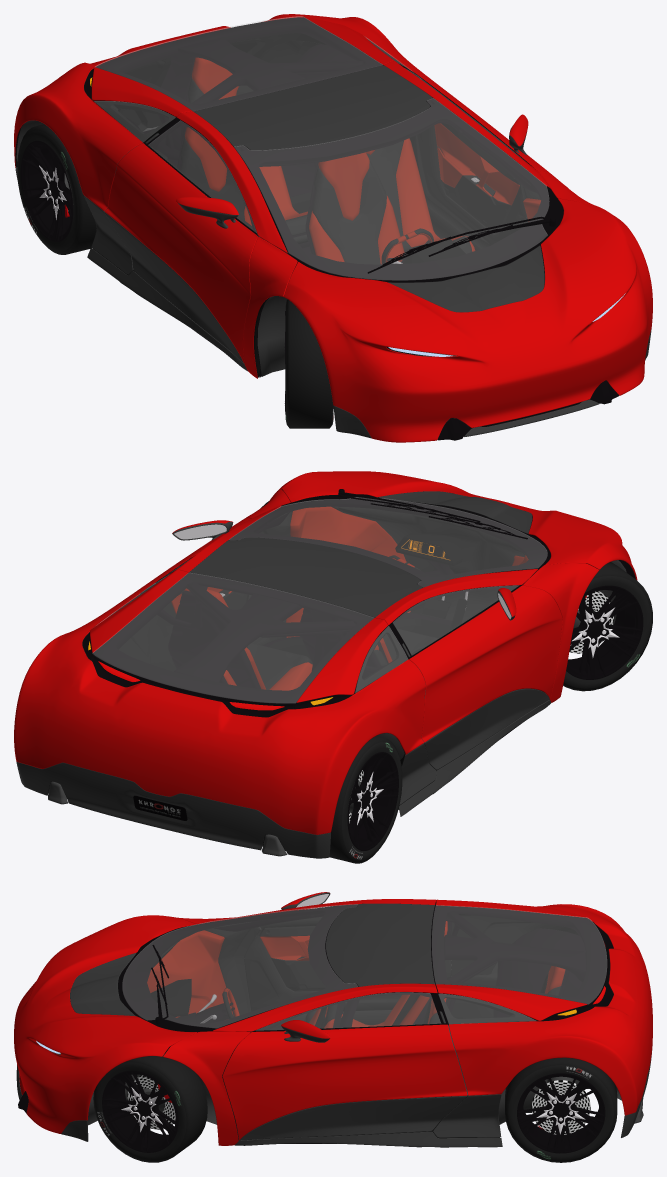
Rendered from electric.glb.
3 views of the same model, one above another, from view 1: azimuth 30°, elevation 25°; view 2: azimuth 150°, elevation 25°; view 3: azimuth 270°, elevation 25° (orthographic). The views are drawn at different scales.
Parts seen in each view (by area): view 1: BodyHood, BodyWindshield, BodyRearwindow, BodyDoorRColor1, BodyRearPanelsColor1, BodyRoofPanel, BodyWindshieldGasket, InteriorSeatsColor1, InteriorSeatsColor2, BodyPillars, InteriorPillar, InteriorRearHatch (+21 smaller); view 2: BodyRearPanelsColor1, BodyRearwindow, BodyWindshield, BodyDoorRColor1, BodyPanelsColor2, BodyRoofPanel, BodyHood, InteriorRearHatch, BodyPillars, InteriorPillar, BodyWindshieldGasket, InteriorDashMid (+22 smaller); view 3: BodyRearPanelsColor1, BodyWindshield, BodyDoorLColor1, BodyHood, BodyRearwindow, BodyRoofPanel, BodyPillars, BodyWindshieldGasket, BodyDoorLColor2, BodyPanelsColor2, WheelFrontL, InteriorRearHatch (+25 smaller).
Boxes of the visible parts, box(x1,y1,x2,y2) form: BodyHood: box(283, 198, 652, 442); BodyWindshield: box(234, 98, 549, 280); BodyRearwindow: box(95, 16, 382, 110); BodyDoorRColor1: box(104, 143, 257, 362); BodyRearPanelsColor1: box(14, 14, 428, 210); BodyRoofPanel: box(193, 65, 432, 150); BodyWindshieldGasket: box(234, 99, 563, 282); InteriorSeatsColor1: box(185, 57, 475, 264); InteriorSeatsColor2: box(180, 78, 472, 264); BodyPillars: box(176, 61, 598, 378); InteriorPillar: box(158, 37, 434, 168); InteriorRearHatch: box(93, 17, 383, 117); BodyRearPanelsColor1: box(14, 569, 425, 834); BodyRearwindow: box(92, 573, 373, 703); BodyWindshield: box(229, 497, 547, 587); BodyDoorRColor1: box(409, 585, 562, 742); BodyPanelsColor2: box(16, 700, 550, 858); BodyRoofPanel: box(189, 537, 422, 617); BodyHood: box(279, 471, 637, 580); InteriorRearHatch: box(93, 573, 386, 707); BodyPillars: box(175, 489, 599, 702); InteriorPillar: box(174, 574, 417, 682); BodyWindshieldGasket: box(230, 497, 550, 587); InteriorDashMid: box(331, 502, 528, 622); BodyRearPanelsColor1: box(436, 899, 652, 1115); BodyWindshield: box(122, 904, 357, 1028); BodyDoorLColor1: box(222, 1024, 467, 1139); BodyHood: box(14, 915, 196, 1133); BodyRearwindow: box(432, 905, 606, 1003); BodyRoofPanel: box(326, 903, 434, 986); BodyPillars: box(163, 899, 437, 1145); BodyWindshieldGasket: box(118, 905, 357, 1032); BodyDoorLColor2: box(240, 1096, 467, 1140); BodyPanelsColor2: box(16, 1050, 652, 1147); WheelFrontL: box(93, 1054, 207, 1162); InteriorRearHatch: box(431, 905, 606, 1020).
Bounding box in the file's own units: 2.54 × 1.15 × 4.36.
Materials: 23 (6 with a texture image).
